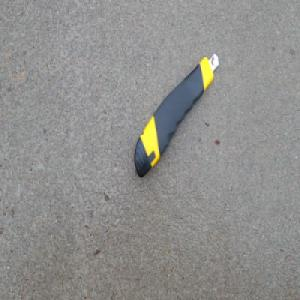Cutter: (133, 51, 219, 179)
